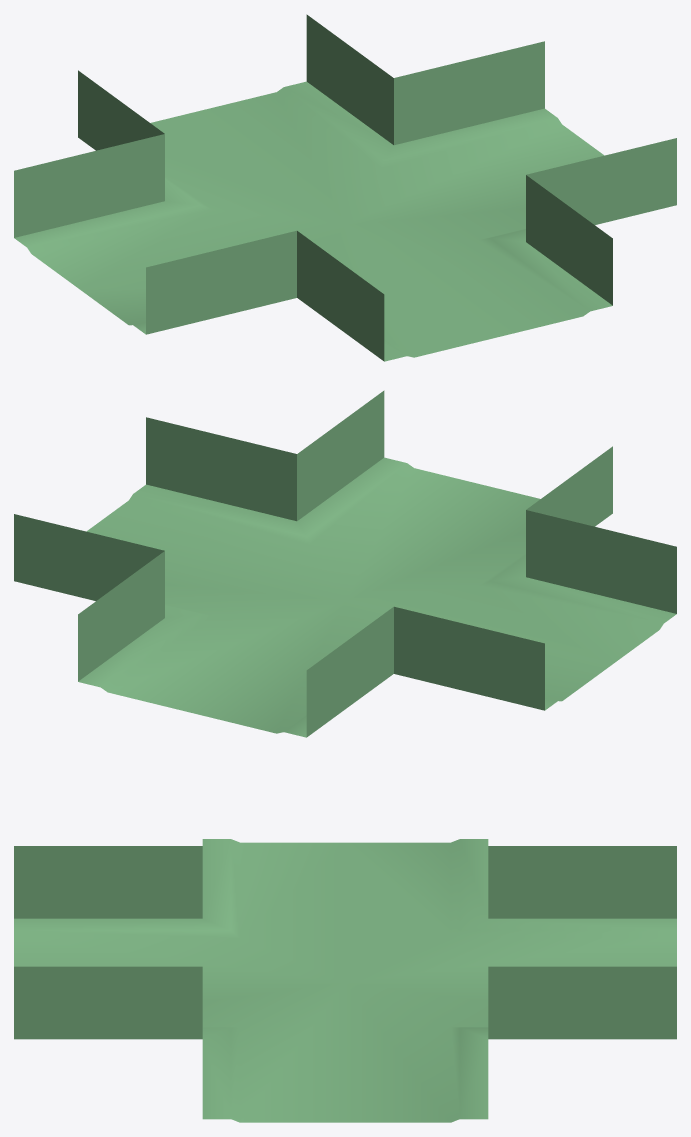
The model's file is Bridge_X_16_A_COL.fbx.
3 views of the same model, one above another, from view 1: azimuth 30°, elevation 25°; view 2: azimuth 150°, elevation 25°; view 3: azimuth 270°, elevation 25° (orthographic). The views are drawn at different scales.
Visible parts, largest first — view 1: Bridge_X_16_A_COL; view 2: Bridge_X_16_A_COL; view 3: Bridge_X_16_A_COL.
Boxes of the visible parts, x1,y1,x2,y2 form: Bridge_X_16_A_COL: (14, 14, 676, 361); Bridge_X_16_A_COL: (14, 390, 676, 737); Bridge_X_16_A_COL: (14, 839, 676, 1122).
Size of the model in its own units: 1600 by 203 by 1600.
